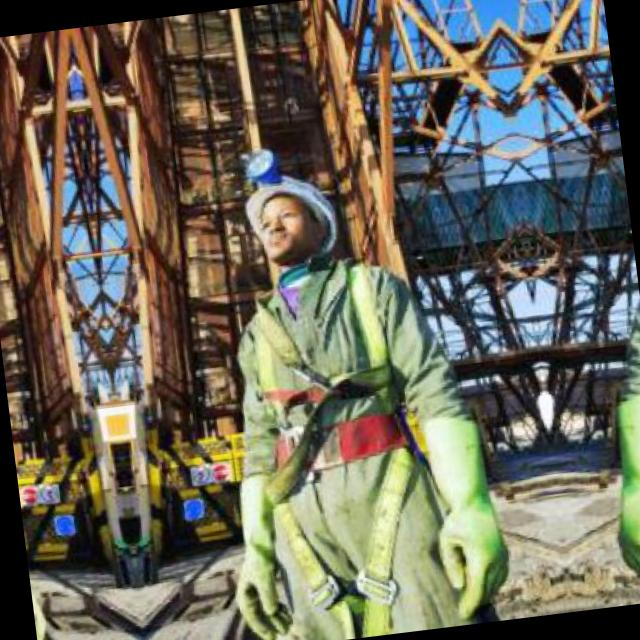helmet: (234, 157, 340, 274)
